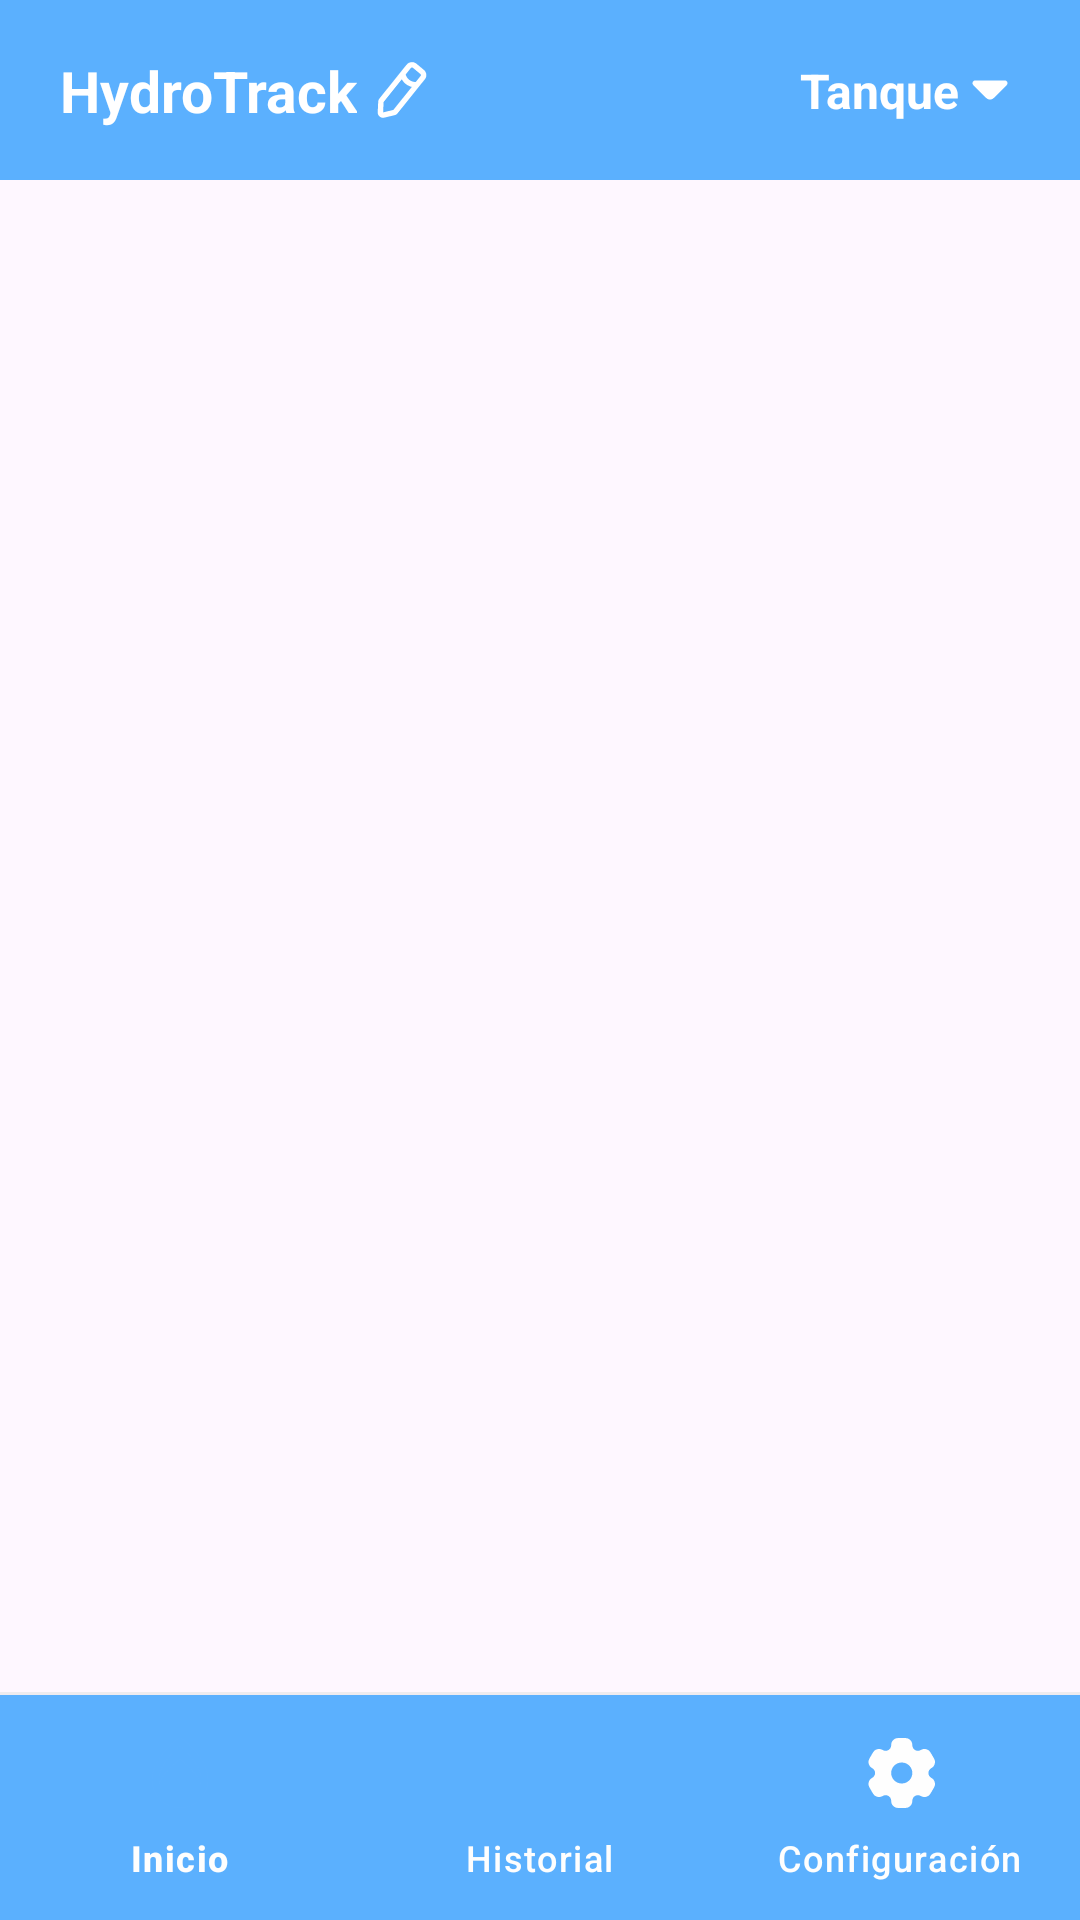

Screen size 1080×1920. Icon name, then its center in pixels as point (x, y):
arrow down: point (990, 90)
pencil: point (402, 90)
